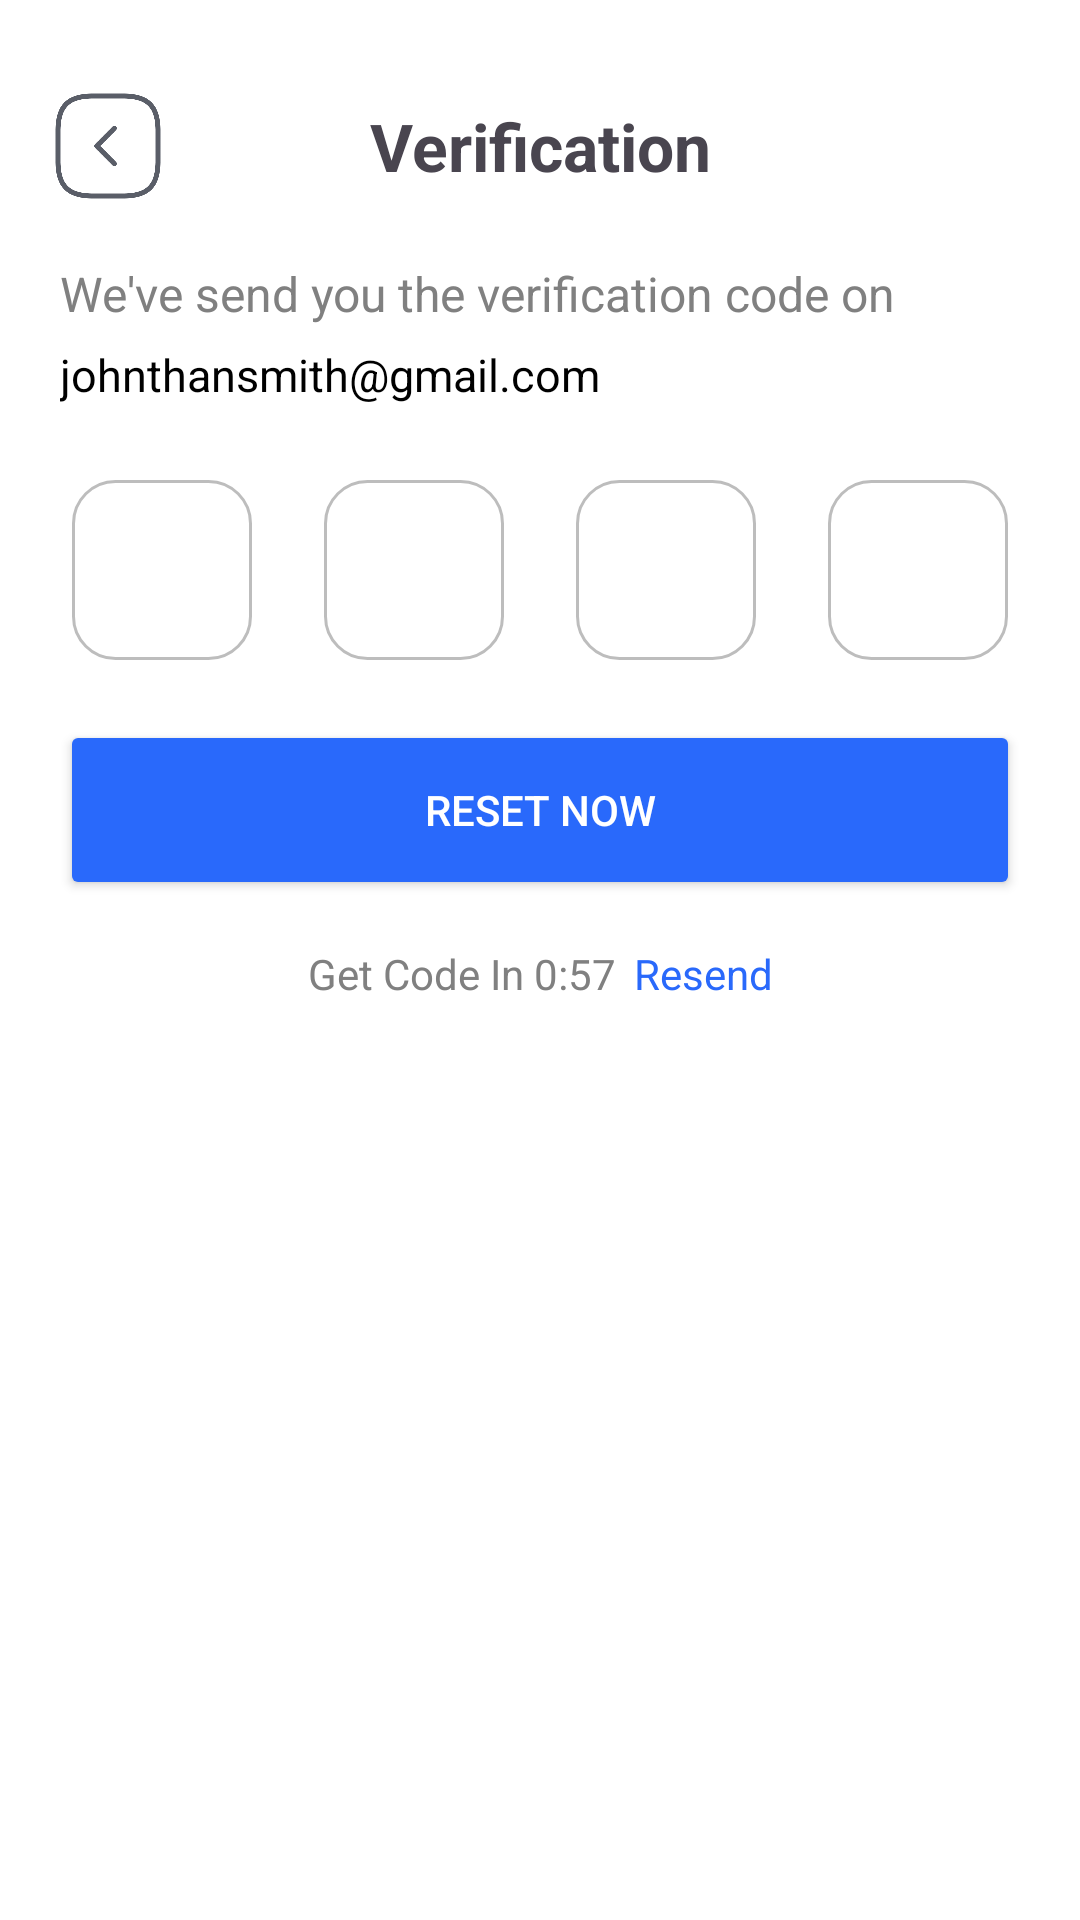

Icon click points for this 1080*1920 phone screenshot, format (x,y):
arrow back: (108,146)
